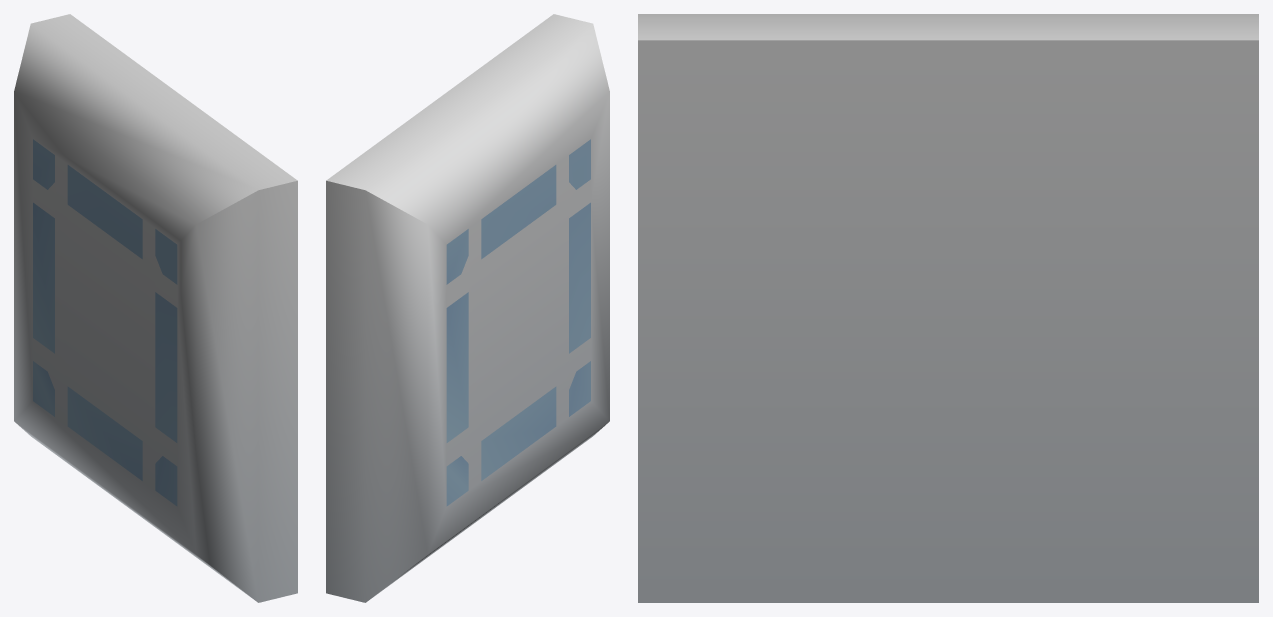
File: wall-tile-border (%wall).glb
The picture shows the model from 3 angles, left to right: view 1: azimuth 30°, elevation 25°; view 2: azimuth 150°, elevation 25°; view 3: azimuth 270°, elevation 25°; orthographic projection. The views are drawn at different scales.
Parts seen in each view (by area): view 1: wall-tile-border (%wall); view 2: wall-tile-border (%wall); view 3: wall-tile-border (%wall).
Boxes of the visible parts, left/top/right/bottom form: wall-tile-border (%wall): left=14, top=14, right=297, bottom=602; wall-tile-border (%wall): left=326, top=14, right=609, bottom=602; wall-tile-border (%wall): left=638, top=14, right=1258, bottom=602.
Bounding box in the file's own units: 0.05 × 0.25 × 0.25.
